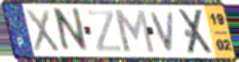M: (111, 7, 157, 55)
N: (54, 6, 91, 55)
V: (148, 10, 176, 53)
X: (177, 8, 216, 56), (24, 8, 62, 54)
Z: (87, 9, 124, 53)
